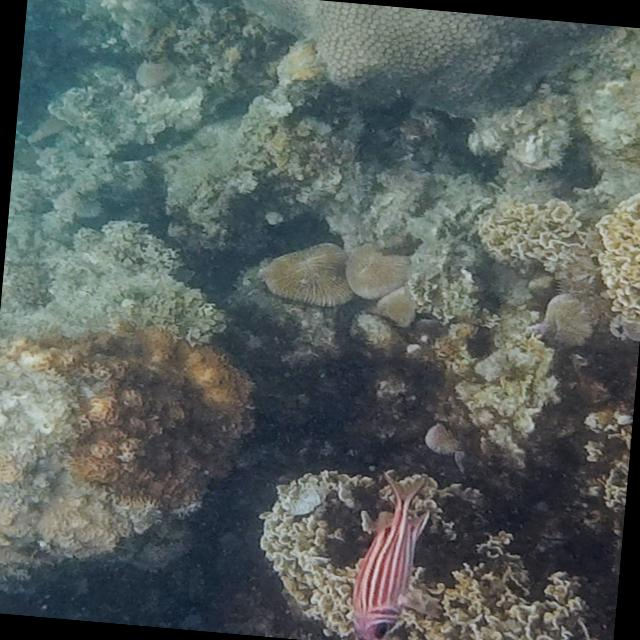Asker Baligi: (344, 464, 439, 640)
